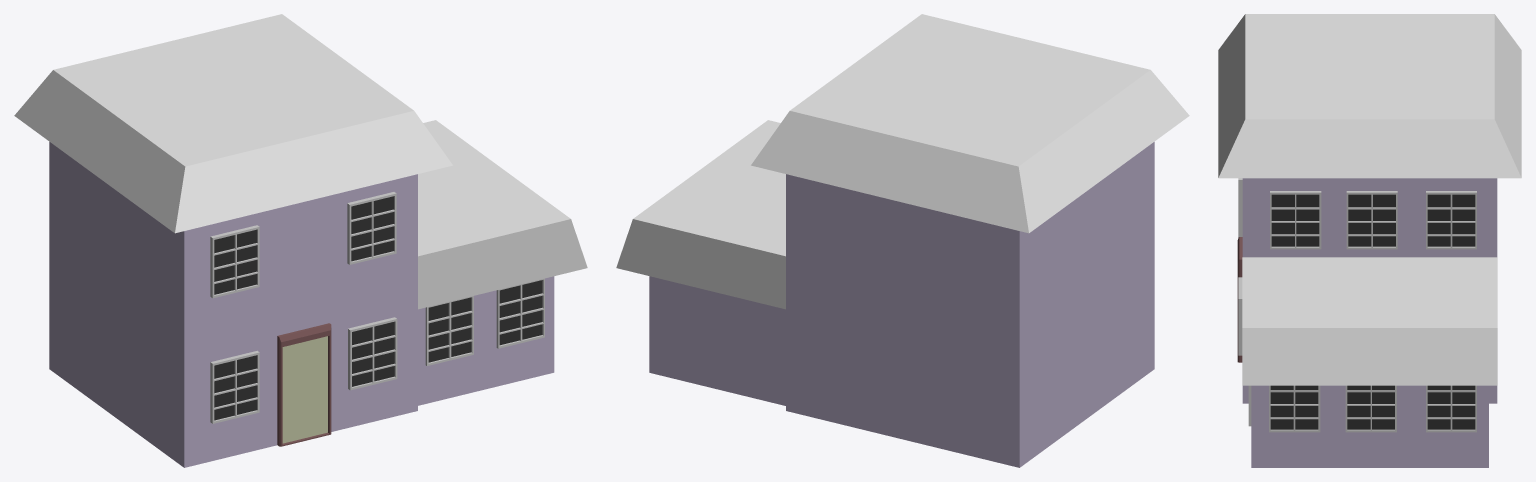
File: niceHouse.fbx
3 views of the same model, side by side, from view 1: azimuth 30°, elevation 25°; view 2: azimuth 150°, elevation 25°; view 3: azimuth 270°, elevation 25° (orthographic). The views are drawn at different scales.
Parts seen in each view (by area): view 1: big building, big roof, small roof, small building, Cube, window 12, window 10, window 11, window 09, window 01, window 02; view 2: big building, big roof, small roof, small building; view 3: big roof, small roof, small building, big building, window 08, window 07, window 06, window 04, window 03, window 05, Cube, window 12.
Boxes of the visible parts, left/top/right/bottom form: big building: left=49, top=142, right=417, bottom=467; big roof: left=14, top=14, right=452, bottom=233; small roof: left=418, top=120, right=587, bottom=309; small building: left=418, top=276, right=554, bottom=405; Cube: left=277, top=323, right=331, bottom=446; window 12: left=348, top=317, right=397, bottom=390; window 10: left=210, top=225, right=259, bottom=298; window 11: left=210, top=350, right=259, bottom=423; window 09: left=347, top=192, right=396, bottom=264; window 01: left=496, top=278, right=544, bottom=348; window 02: left=425, top=296, right=473, bottom=365; big building: left=786, top=142, right=1154, bottom=467; big roof: left=751, top=14, right=1189, bottom=233; small roof: left=616, top=120, right=785, bottom=309; small building: left=649, top=276, right=785, bottom=405; big roof: left=1218, top=14, right=1521, bottom=178; small roof: left=1242, top=257, right=1497, bottom=385; small building: left=1251, top=385, right=1488, bottom=467; big building: left=1242, top=178, right=1497, bottom=403; window 08: left=1270, top=191, right=1321, bottom=249; window 07: left=1346, top=191, right=1397, bottom=249; window 06: left=1426, top=191, right=1476, bottom=249; window 04: left=1345, top=385, right=1396, bottom=432; window 03: left=1269, top=385, right=1320, bottom=432; window 05: left=1426, top=385, right=1476, bottom=432; Cube: left=1237, top=237, right=1242, bottom=362; window 12: left=1238, top=277, right=1242, bottom=355.
Size of the model in its own units: 815 by 549 by 533.
